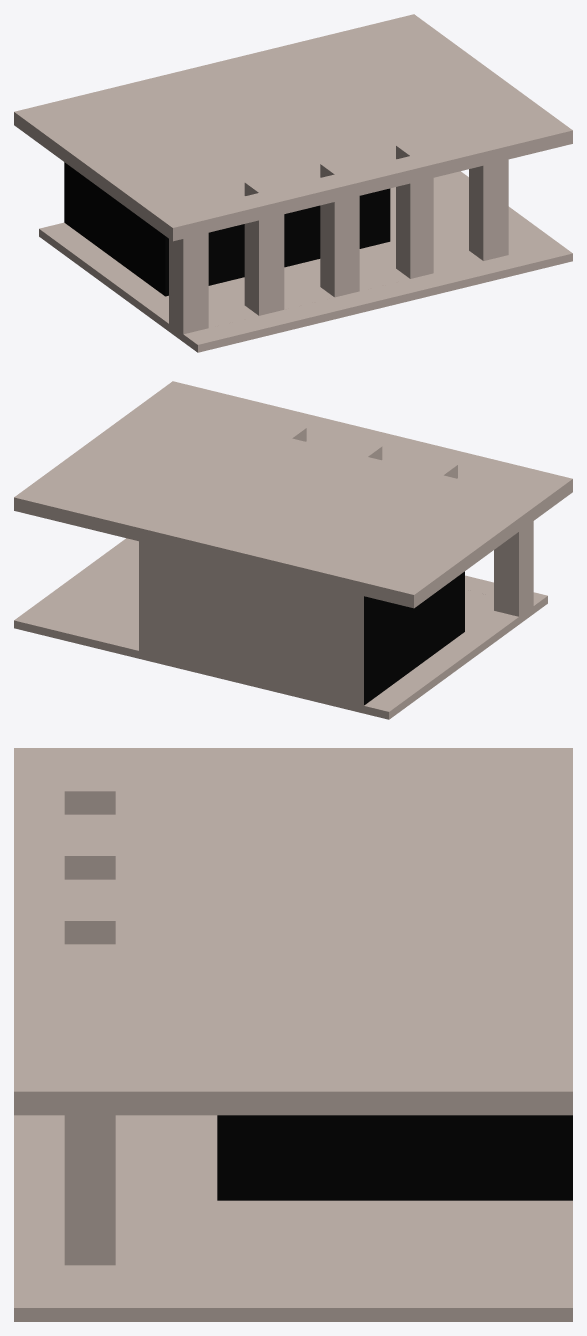
Rendered from kafeterya.fbx.
3 views of the same model, one above another, from view 1: azimuth 30°, elevation 25°; view 2: azimuth 150°, elevation 25°; view 3: azimuth 270°, elevation 25° (orthographic). The views are drawn at different scales.
Visible parts, largest first — view 1: Plane; view 2: Plane; view 3: Plane.
Part boxes in pixels (bbox=[...]): Plane: bbox=[14, 14, 572, 352]; Plane: bbox=[14, 381, 572, 719]; Plane: bbox=[14, 748, 572, 1321].
Bounding box in the file's own units: 1600 × 551 × 1100.
